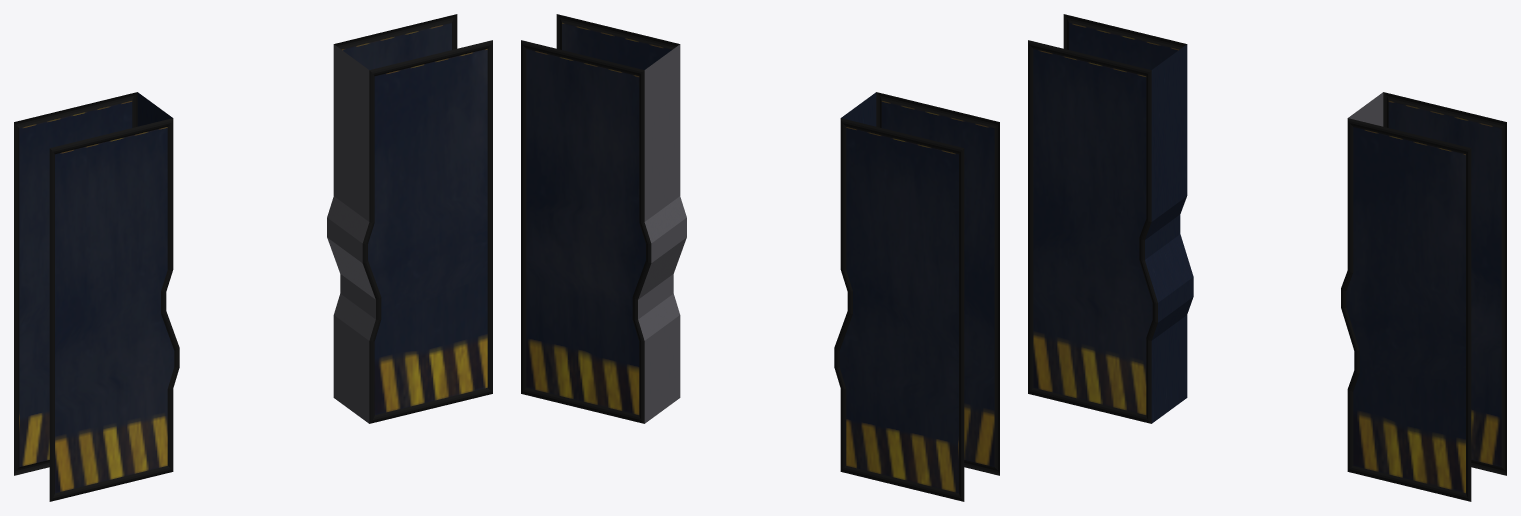
File: door-normal_000005.obj
The picture shows the model from 3 angles, left to right: view 1: azimuth 30°, elevation 25°; view 2: azimuth 150°, elevation 25°; view 3: azimuth 330°, elevation 25°; orthographic projection.
Parts seen in each view (by area): view 1: Door.Left_Cube.007, Door.Right_Cube.006; view 2: Door.Left_Cube.007, Door.Right_Cube.006; view 3: Door.Left_Cube.007, Door.Right_Cube.006.
Part boxes in pixels (bbox=[...]): Door.Left_Cube.007: bbox=[327, 14, 492, 423]; Door.Right_Cube.006: bbox=[14, 92, 179, 501]; Door.Left_Cube.007: bbox=[521, 14, 686, 423]; Door.Right_Cube.006: bbox=[834, 92, 999, 501]; Door.Left_Cube.007: bbox=[1341, 92, 1506, 501]; Door.Right_Cube.006: bbox=[1028, 14, 1193, 423].
Size of the model in its own units: 6.89 by 5.26 by 0.9998.
6 materials, 6 textured.
